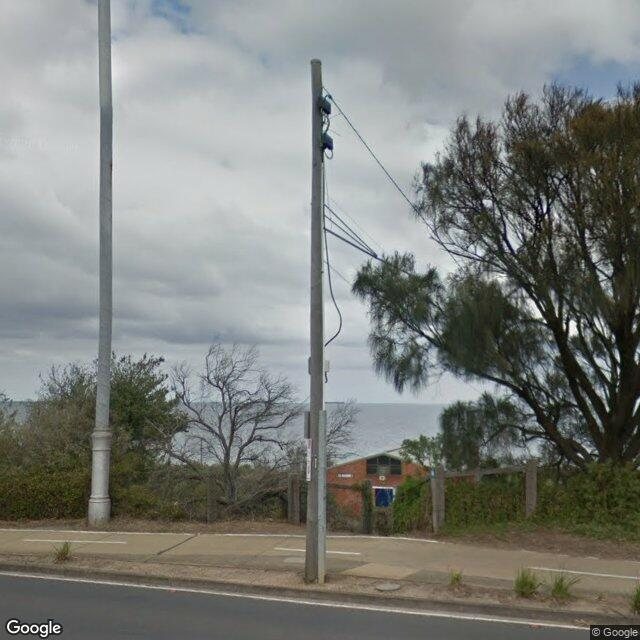timber-pole: (304, 60, 326, 586)
